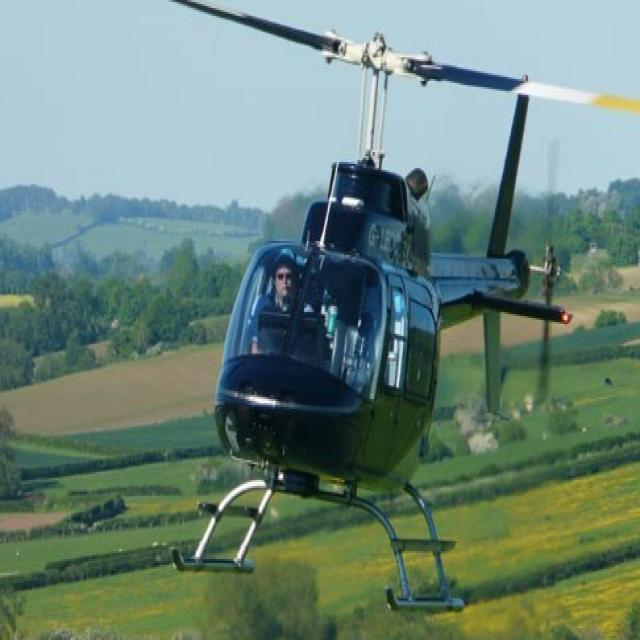helicopter: (67, 13, 513, 635)
